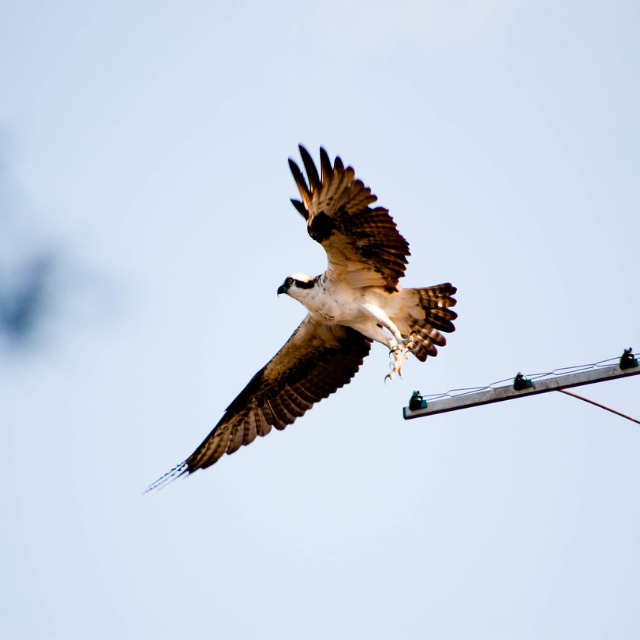Eagle: (144, 142, 458, 495)
